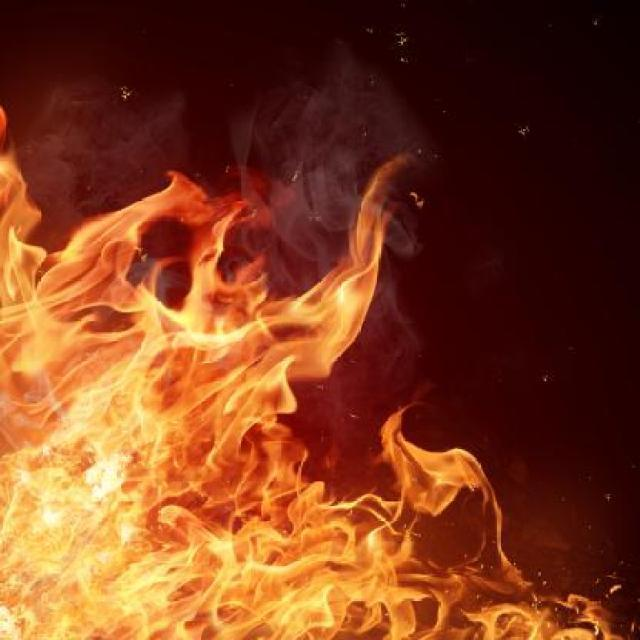Fire: (5, 0, 640, 640)
Smoke: (0, 43, 488, 635)
